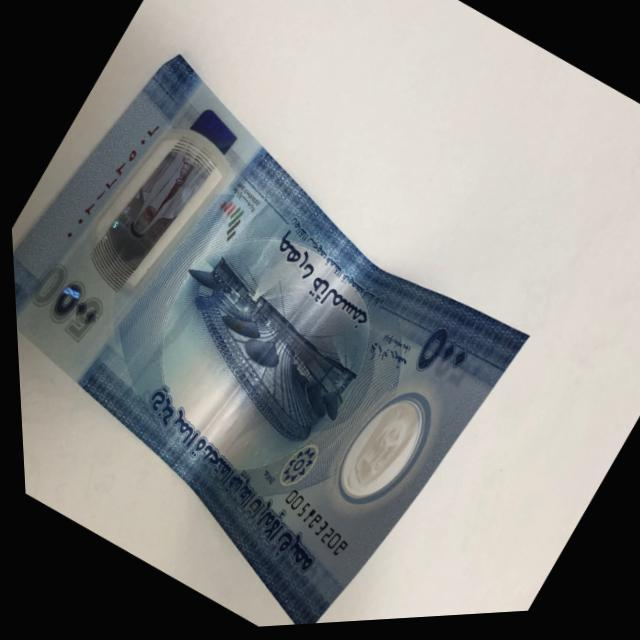500_AED: (12, 42, 530, 624)
